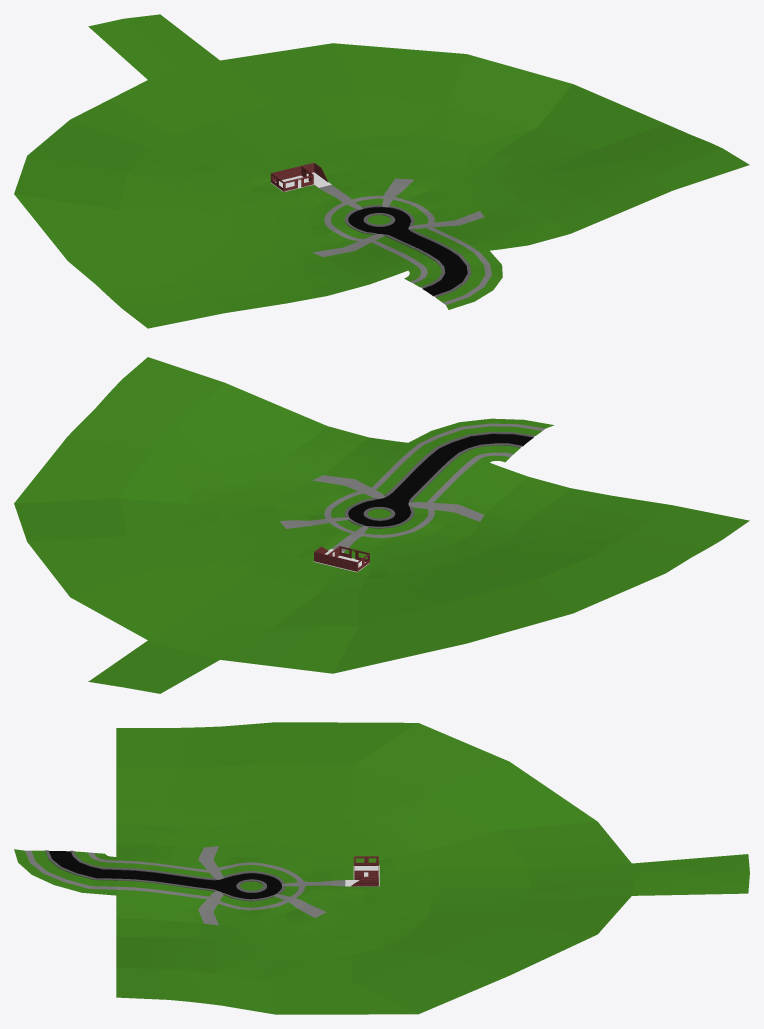
File: ground_prototyp.fbx
The picture shows the model from 3 angles, top to bottom: view 1: azimuth 30°, elevation 25°; view 2: azimuth 150°, elevation 25°; view 3: azimuth 270°, elevation 25°; orthographic projection. The views are drawn at different scales.
Parts seen in each view (by area): view 1: Boden, Cube.016; view 2: Boden, Cube.016; view 3: Boden, Cube.016.
Part boxes in pixels (x1,y1,x2,y2): Boden: (14, 14, 749, 328); Cube.016: (270, 162, 331, 191); Boden: (14, 357, 749, 693); Cube.016: (313, 546, 369, 572); Boden: (14, 722, 749, 1014); Cube.016: (345, 856, 379, 886).
Size of the model in its own units: 77633 by 4204 by 84457.
